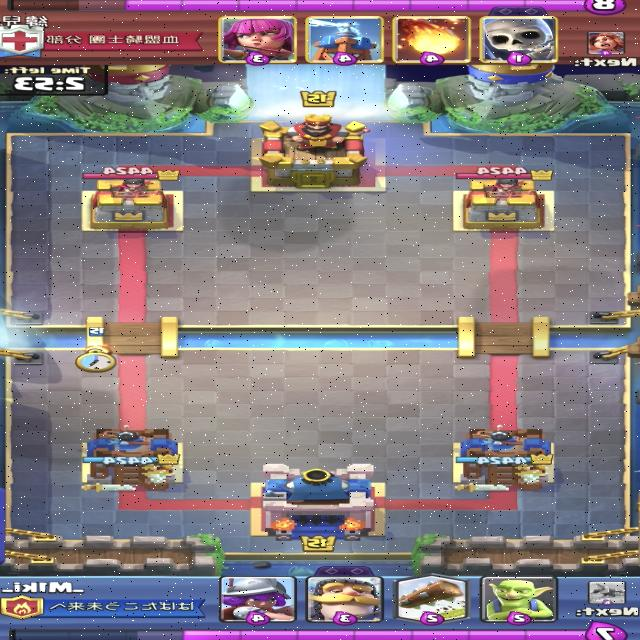Player-FireSpirit: (84, 326, 112, 360)
